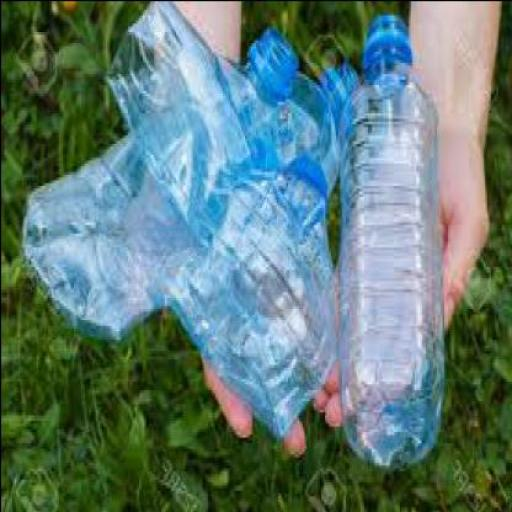plastic: (24, 56, 360, 339), (162, 156, 339, 440), (338, 9, 447, 464), (105, 0, 268, 263), (129, 28, 296, 269)
